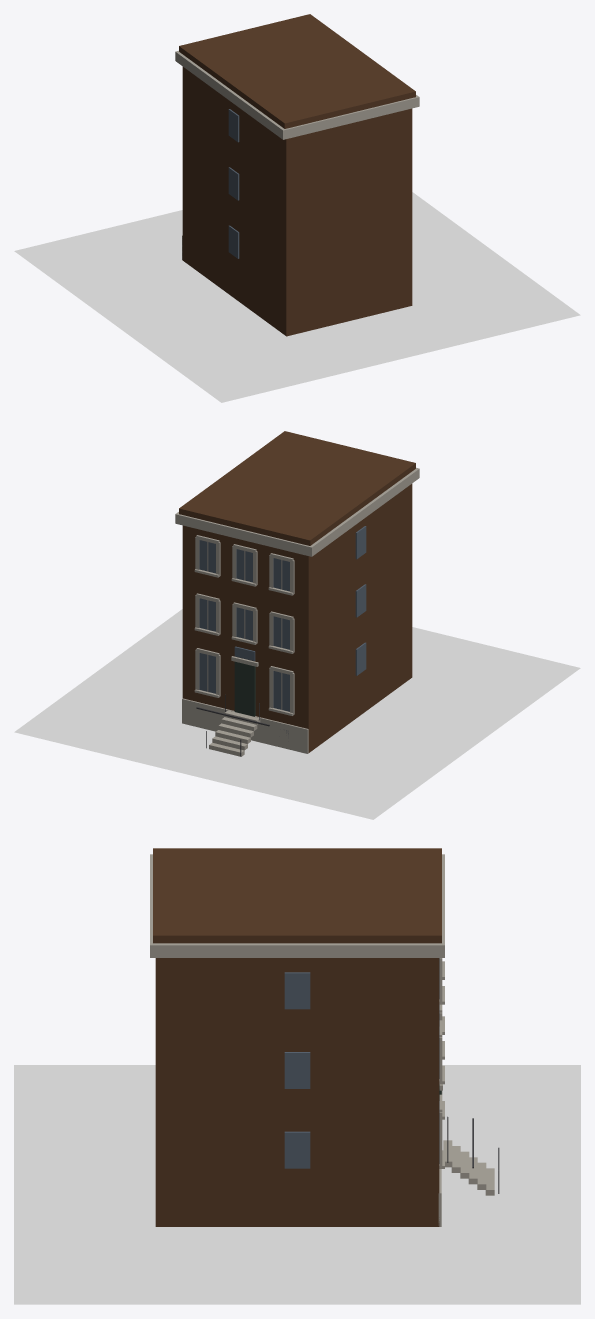
File: brownstone-a.glb
3 views of the same model, one above another, from view 1: azimuth 30°, elevation 25°; view 2: azimuth 150°, elevation 25°; view 3: azimuth 270°, elevation 25° (orthographic). The views are drawn at different scales.
Parts seen in each view (by area): view 1: Cube, Plane, Cube.003, Cube.002; view 2: Plane, Cube, Cube.003, Cube.002, Cube.001, Cube.004, Cube.017, Cube.023, Cube.029, Cube.035, Cube.041, Cube.059 (+2 smaller); view 3: Plane, Cube, Cube.003, Cube.002, Cube.068, Cube.070, Cube.069.
Boxes of the visible parts, x1=… form: Cube: x1=182, y1=67, x2=412, y2=336; Plane: x1=14, y1=192, x2=580, y2=402; Cube.003: x1=179, y1=14, x2=415, y2=128; Cube.002: x1=175, y1=50, x2=419, y2=139; Plane: x1=14, y1=609, x2=580, y2=819; Cube: x1=182, y1=484, x2=412, y2=752; Cube.003: x1=179, y1=431, x2=415, y2=545; Cube.002: x1=175, y1=467, x2=419, y2=556; Cube.001: x1=182, y1=698, x2=308, y2=753; Cube.004: x1=234, y1=661, x2=255, y2=716; Cube.017: x1=273, y1=671, x2=289, y2=711; Cube.023: x1=199, y1=653, x2=215, y2=693; Cube.029: x1=273, y1=616, x2=289, y2=649; Cube.035: x1=236, y1=607, x2=252, y2=640; Cube.041: x1=199, y1=598, x2=215, y2=631; Cube.059: x1=199, y1=540, x2=215, y2=573; Plane: x1=14, y1=1065, x2=580, y2=1304; Cube: x1=155, y1=958, x2=439, y2=1226; Cube.003: x1=153, y1=848, x2=441, y2=943; Cube.002: x1=150, y1=854, x2=444, y2=957; Cube.068: x1=284, y1=1131, x2=310, y2=1168; Cube.070: x1=284, y1=972, x2=310, y2=1009; Cube.069: x1=284, y1=1052, x2=310, y2=1088.
Bounding box in the file's own units: 20 × 11.4 × 20.
